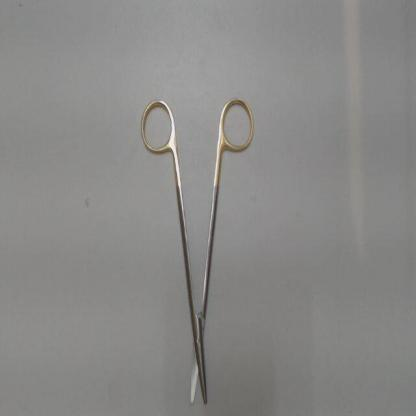7 Metzenbaum Scissors: (138, 93, 258, 410)
